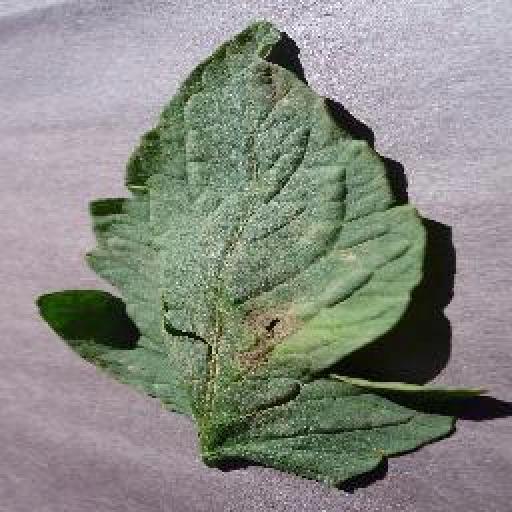disease_tomato: (35, 20, 455, 488)
